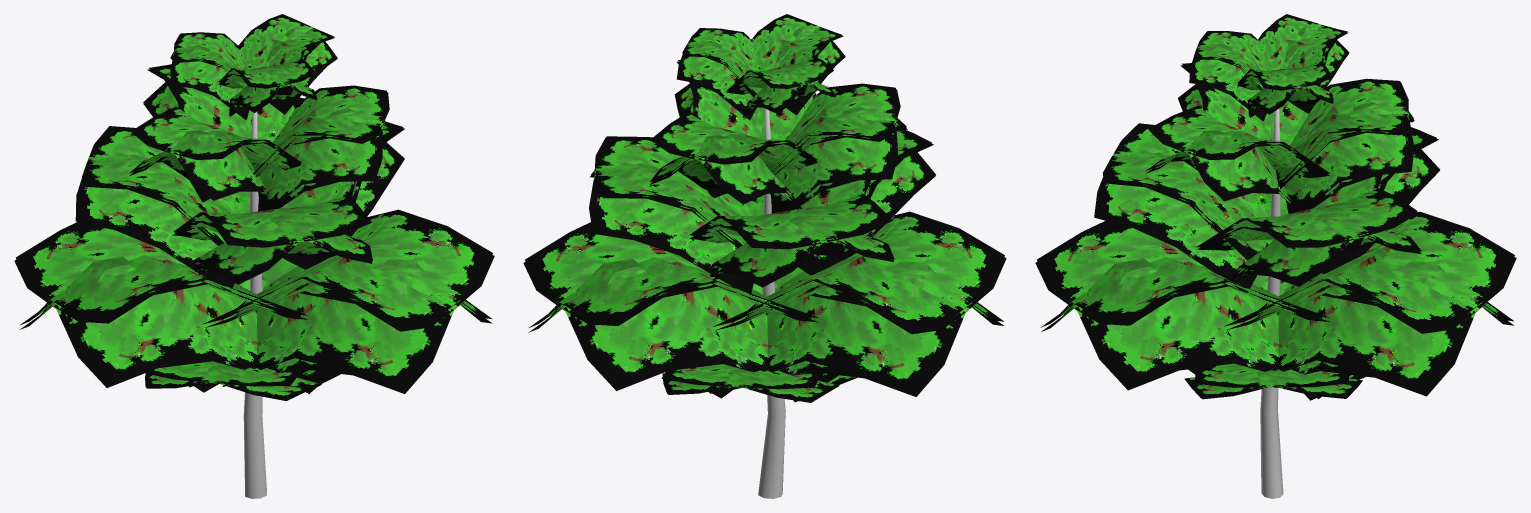
File: arbol.fbx
3 renders of one model, left to right at view 1: azimuth 30°, elevation 25°; view 2: azimuth 150°, elevation 25°; view 3: azimuth 270°, elevation 25°, orthographic.
Parts seen in each view (by area): view 1: Plane.001, Plane, Plane.005, Plane.007, Plane.004, Plane.006, Plane.010, Plane.008, Plane.009, Plane.013, Plane.003, Plane.011 (+2 smaller); view 2: Plane, Plane.002, Plane.003, Plane.006, Plane.005, Plane.008, Plane.004, Plane.010, Plane.012, Plane.011, Plane.007, Plane.009 (+1 smaller); view 3: Plane.002, Plane.001, Plane.004, Plane.008, Plane.003, Plane.007, Plane.014, Plane.009, Plane.011, Plane.005, Plane.006, Plane.010 (+1 smaller).
Boxes of the visible parts, bbox=[...] form: Plane.001: bbox=[203, 209, 494, 393]; Plane: bbox=[14, 222, 307, 387]; Plane.005: bbox=[75, 126, 243, 291]; Plane.007: bbox=[253, 85, 397, 211]; Plane.004: bbox=[173, 195, 372, 284]; Plane.006: bbox=[129, 106, 301, 208]; Plane.010: bbox=[238, 14, 337, 114]; Plane.008: bbox=[143, 64, 298, 202]; Plane.009: bbox=[170, 32, 248, 119]; Plane.013: bbox=[145, 361, 322, 400]; Plane.003: bbox=[233, 97, 404, 269]; Plane.011: bbox=[218, 58, 317, 116]; Plane: bbox=[713, 211, 1006, 396]; Plane.002: bbox=[523, 222, 818, 390]; Plane.003: bbox=[589, 136, 753, 293]; Plane.006: bbox=[767, 83, 907, 213]; Plane.005: bbox=[689, 194, 894, 287]; Plane.008: bbox=[650, 112, 817, 209]; Plane.004: bbox=[746, 128, 935, 275]; Plane.010: bbox=[676, 28, 761, 120]; Plane.012: bbox=[661, 364, 839, 402]; Plane.011: bbox=[751, 14, 845, 115]; Plane.007: bbox=[674, 60, 815, 198]; Plane.009: bbox=[726, 56, 835, 119]; Plane.002: bbox=[1224, 211, 1516, 396]; Plane.001: bbox=[1035, 220, 1329, 390]; Plane.004: bbox=[1094, 123, 1273, 292]; Plane.008: bbox=[1276, 78, 1414, 213]; Plane.003: bbox=[1196, 188, 1421, 286]; Plane.007: bbox=[1145, 106, 1329, 211]; Plane.014: bbox=[1184, 363, 1362, 399]; Plane.009: bbox=[1257, 14, 1349, 113]; Plane.011: bbox=[1189, 31, 1268, 121]; Plane.005: bbox=[1258, 127, 1440, 273]; Plane.006: bbox=[1178, 63, 1307, 200]; Plane.010: bbox=[1237, 61, 1333, 117].
Bounding box in the file's own units: 308 × 354 × 345.
